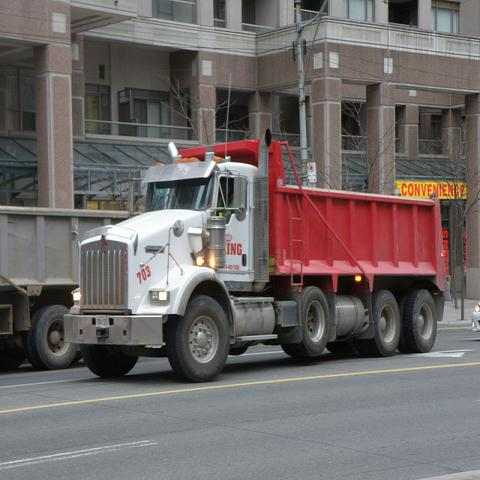car: (471, 301, 479, 332)
truck: (64, 138, 443, 383), (0, 206, 141, 372)
